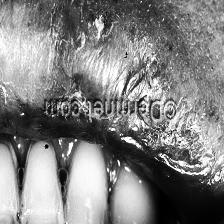Potentially Malignant Skin Tumors: (64, 0, 110, 60)
